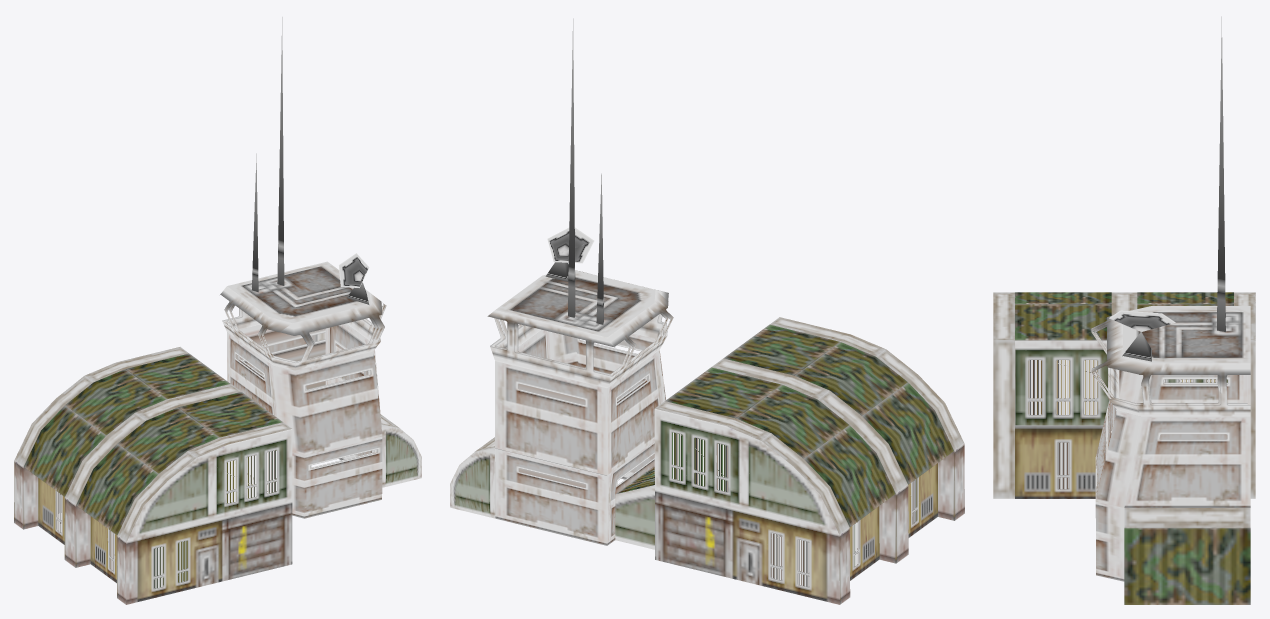
File: l_gatecontrol.glb
3 views of the same model, side by side, from view 1: azimuth 30°, elevation 25°; view 2: azimuth 150°, elevation 25°; view 3: azimuth 270°, elevation 25° (orthographic). The views are drawn at different scales.
Visible parts, largest first — view 1: L_GateControl, LitWin_GateControl, LOS_Ant, Dish; view 2: L_GateControl, LitWin_GateControl, LOS_Ant, Dish; view 3: L_GateControl, LitWin_GateControl, LOS_Ant, Dish, base.
Boxes of the visible parts, box(x1,y1,x2,y2) form: L_GateControl: box(14, 261, 421, 604); LitWin_GateControl: box(56, 304, 382, 588); LOS_Ant: box(252, 17, 284, 292); Dish: box(339, 253, 369, 287); L_GateControl: box(450, 270, 964, 604); LitWin_GateControl: box(495, 312, 917, 586); LOS_Ant: box(568, 18, 603, 324); Dish: box(547, 227, 594, 263); L_GateControl: box(993, 292, 1255, 604); LitWin_GateControl: box(1028, 325, 1247, 489); LOS_Ant: box(1217, 16, 1225, 331); Dish: box(1109, 310, 1175, 331); base: box(1122, 332, 1151, 361).
Bounding box in the file's own units: 23.55 × 29.28 × 13.
Materials: 1 (1 with a texture image).
